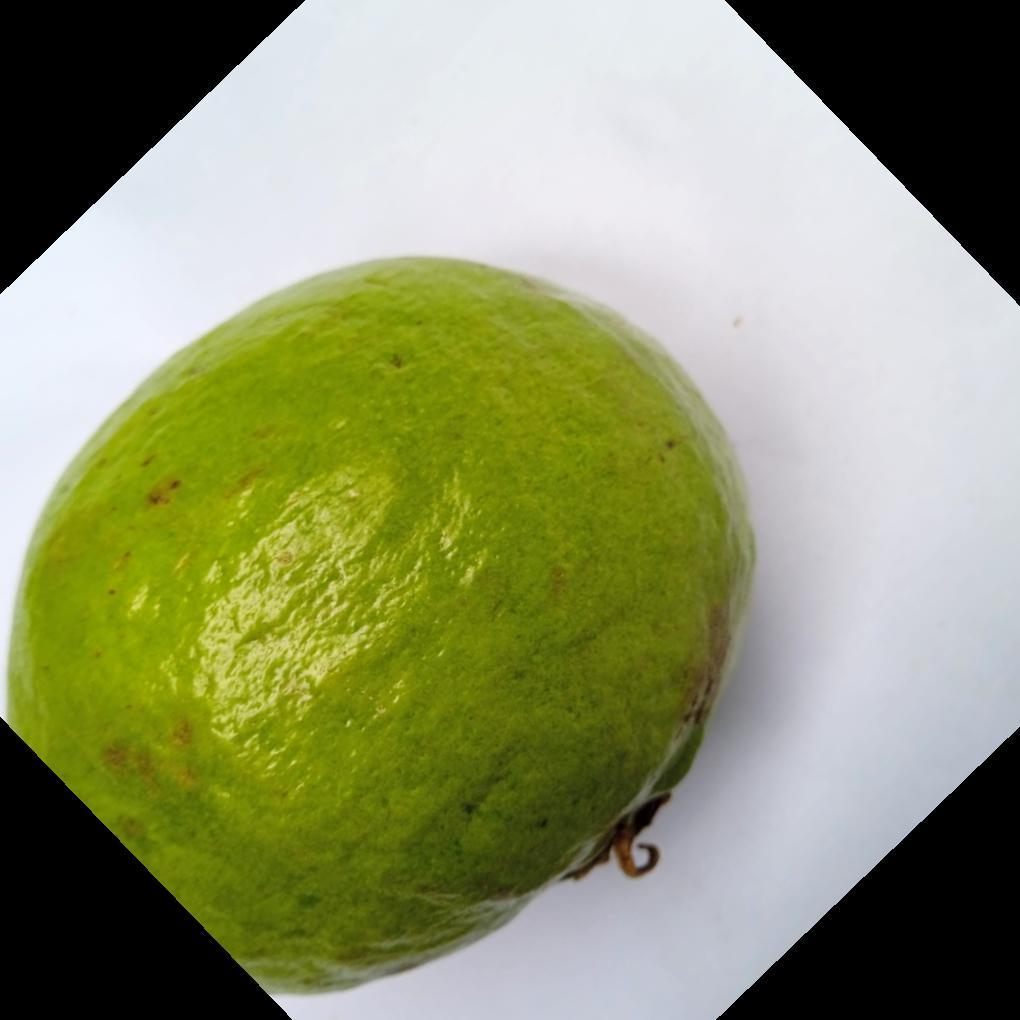FreshGuava: (0, 138, 760, 1000)
